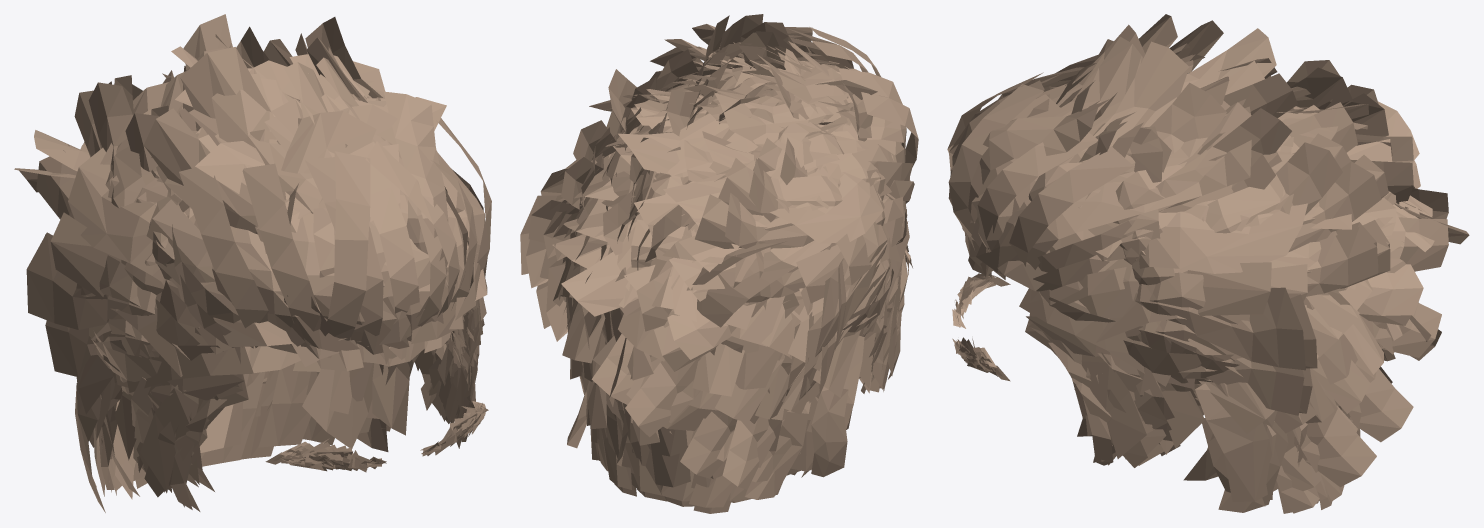
The model's file is male_hair_14_lod0.glb.
The picture shows the model from 3 angles, left to right: view 1: azimuth 30°, elevation 25°; view 2: azimuth 150°, elevation 25°; view 3: azimuth 270°, elevation 25°; orthographic projection. The views are drawn at different scales.
Parts seen in each view (by area): view 1: hair_14; view 2: hair_14; view 3: hair_14.
Part boxes in pixels (x1,y1,x2,y2): hair_14: [14, 14, 491, 512]; hair_14: [520, 14, 918, 513]; hair_14: [947, 14, 1469, 513].
Size of the model in its own units: 0.1748 by 0.2209 by 0.2313.
